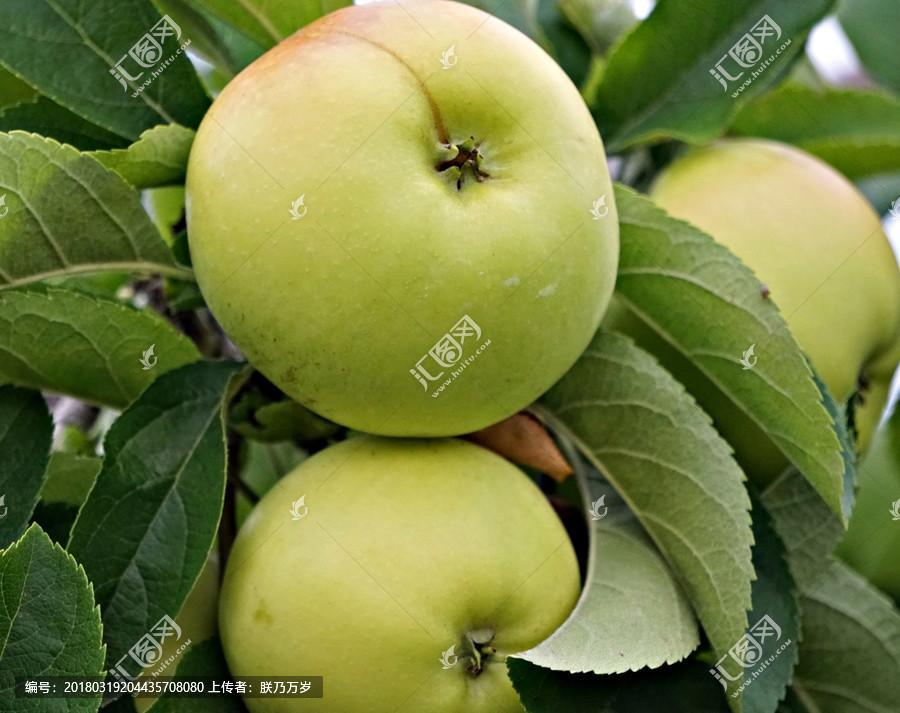apple: (190, 4, 614, 425), (218, 424, 585, 712), (631, 138, 895, 459)
